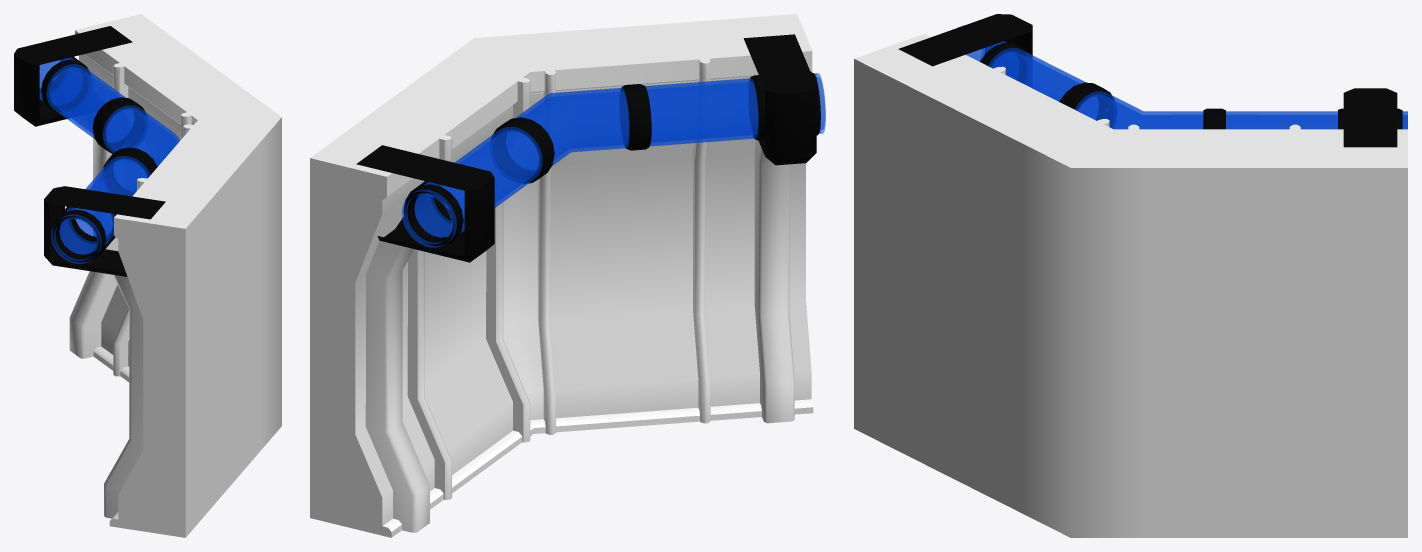
The model's file is WallRoundedCorner.fbx.
3 renders of one model, left to right at view 1: azimuth 30°, elevation 25°; view 2: azimuth 150°, elevation 25°; view 3: azimuth 270°, elevation 25°, orthographic. The views are drawn at different scales.
Parts seen in each view (by area): view 1: Wall; view 2: Wall; view 3: Wall.
Boxes of the visible parts, x1,y1,x2,y2 form: Wall: [14, 14, 281, 537]; Wall: [310, 14, 825, 537]; Wall: [854, 14, 1407, 537].
Size of the model in its own units: 3.43 by 3.8 by 5.16.
